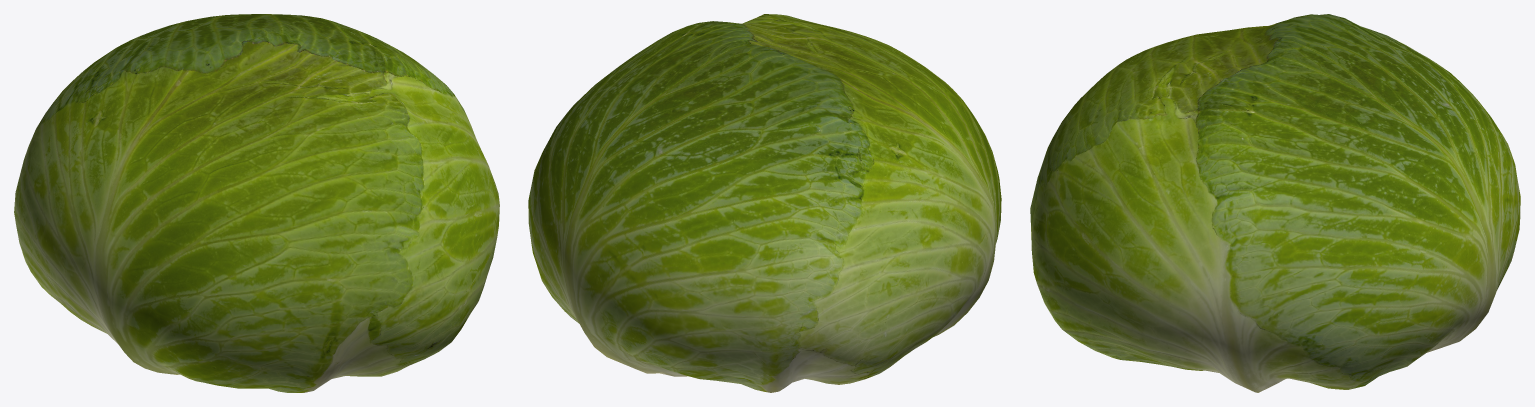
File: капуста.fbx
3 views of the same model, side by side, from view 1: azimuth 30°, elevation 25°; view 2: azimuth 150°, elevation 25°; view 3: azimuth 270°, elevation 25° (orthographic).
Parts seen in each view (by area): view 1: Cabbage.001; view 2: Cabbage.001; view 3: Cabbage.001.
Boxes of the visible parts, bbox=[...] form: Cabbage.001: bbox=[14, 14, 499, 392]; Cabbage.001: bbox=[528, 14, 1001, 392]; Cabbage.001: bbox=[1030, 14, 1520, 392].
Size of the model in its own units: 42.57 by 30.78 by 44.1.
1 material, 1 textured.
